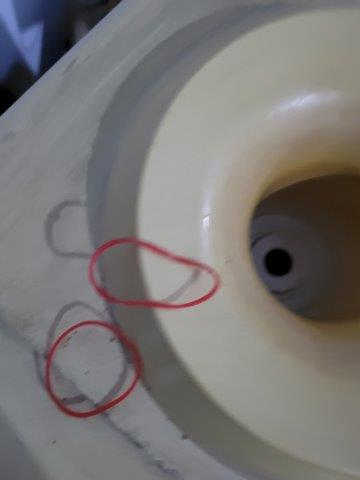karet: (45, 321, 141, 417), (88, 240, 222, 308)
